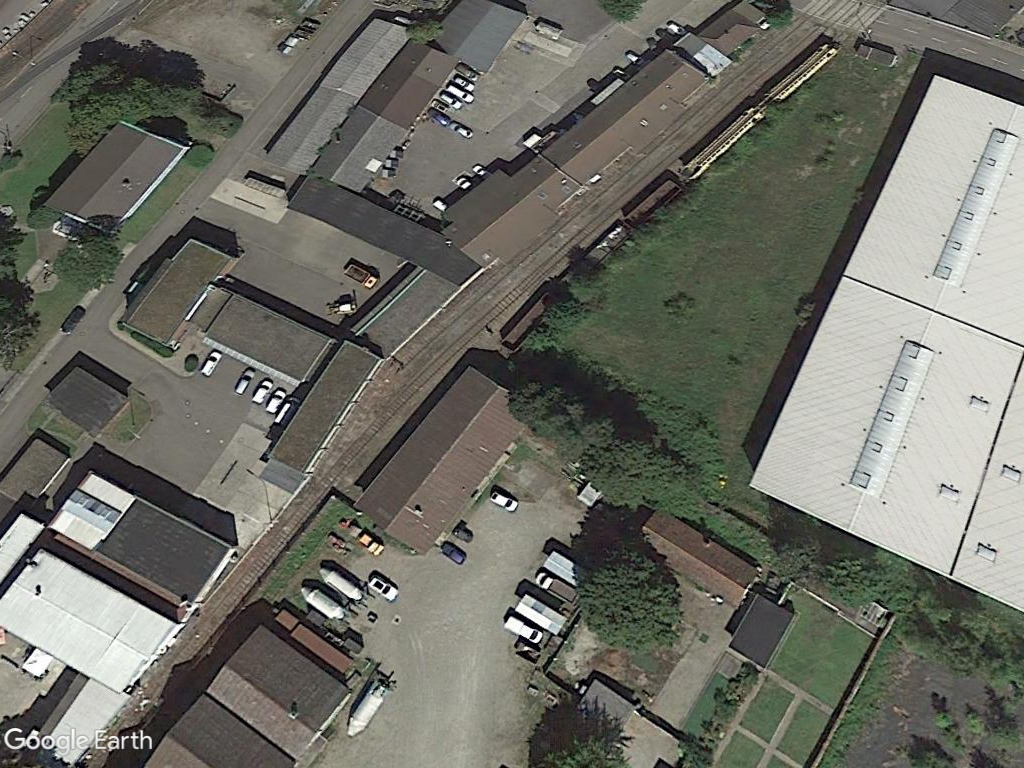car: (487, 483, 521, 514), (199, 342, 224, 381), (233, 361, 256, 402)
